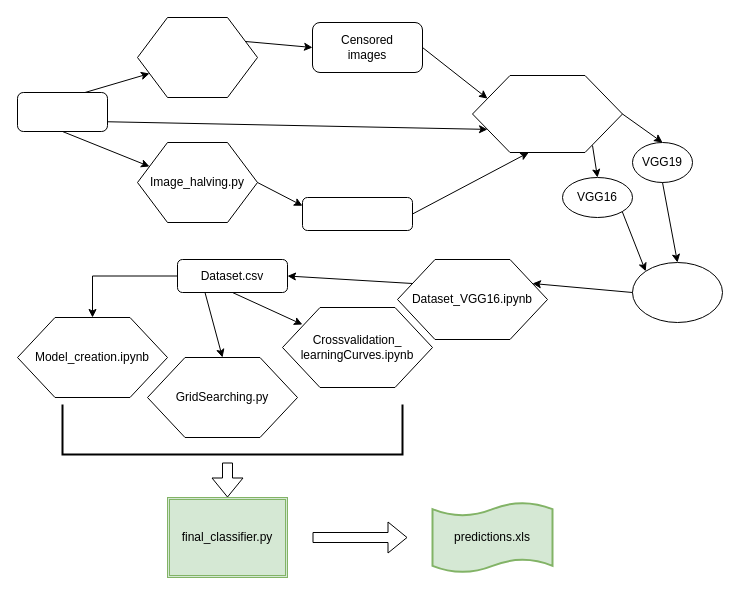
The diagram is 740 pixels wide and 595 high, and some of its shapes have lost their labels. Each missing label, with the centre of its shape:
array pickles: (x=677, y=292)
Halved_images: (x=357, y=213)
Image_ preprocessing.py: (x=197, y=57)
Original images: (x=62, y=112)
PretrainedModel.py: (x=547, y=113)
